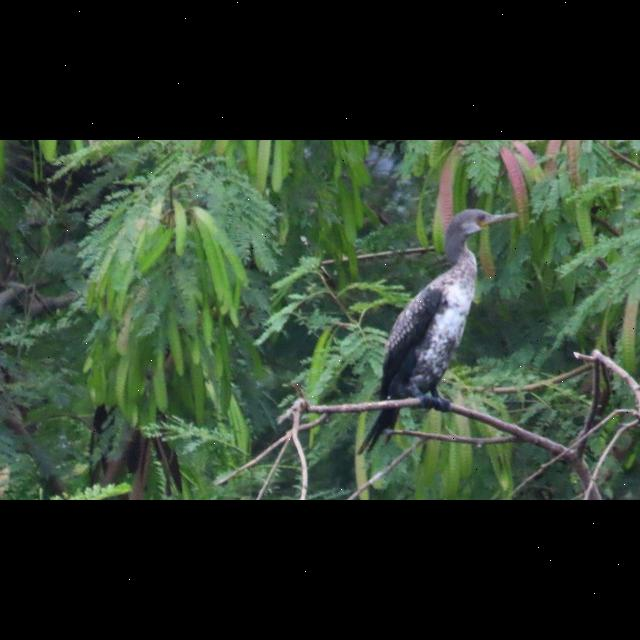cormorant: (359, 208, 521, 460)
